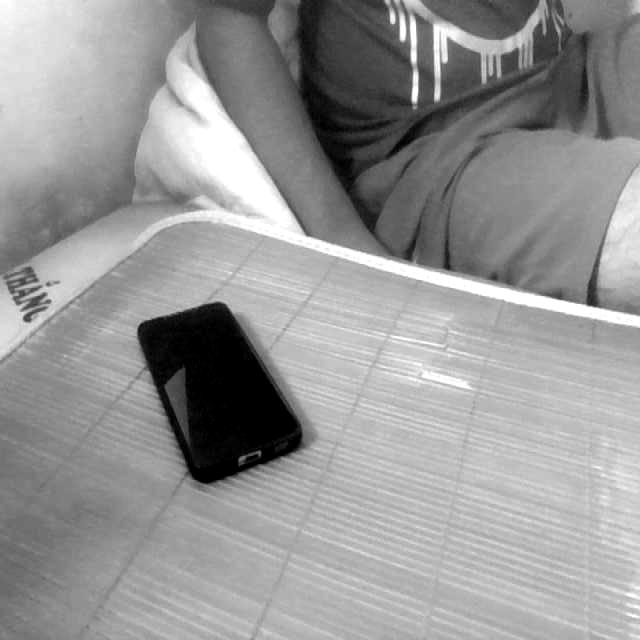phone: (118, 283, 321, 509)
